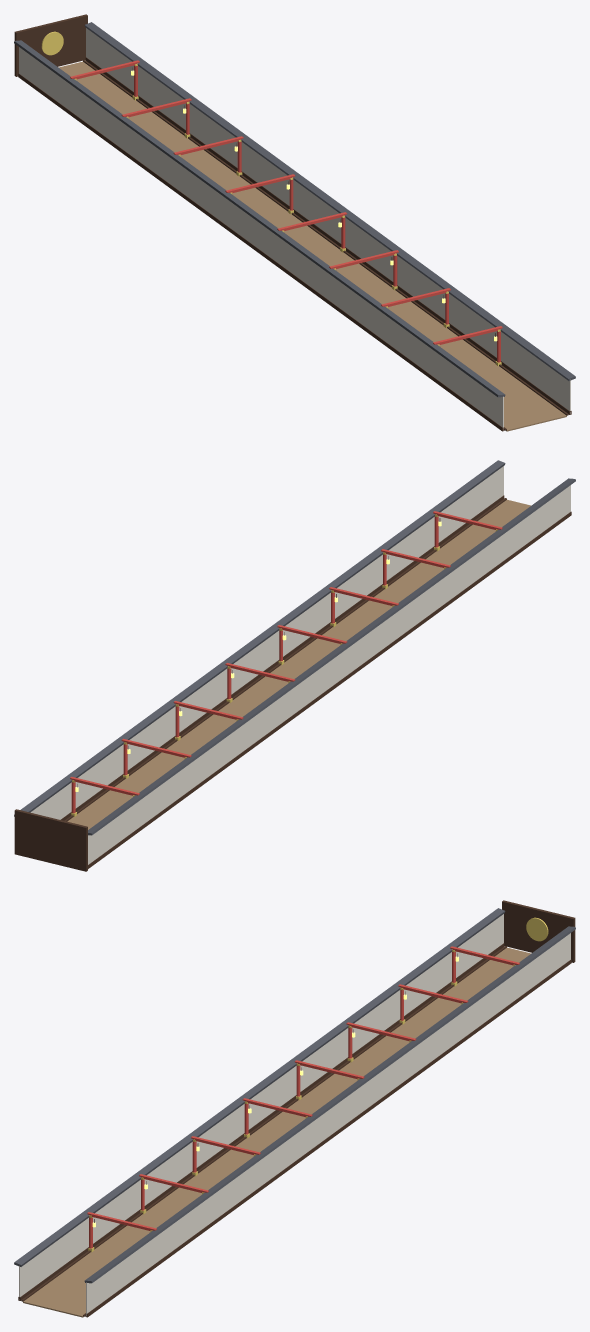
The model's file is escenario_dojo.glb.
3 views of the same model, one above another, from view 1: azimuth 30°, elevation 25°; view 2: azimuth 150°, elevation 25°; view 3: azimuth 330°, elevation 25° (orthographic).
Parts seen in each view (by area): view 1: Shoji_Wall_-5.6, Shoji_Wall_5.6, Dojo_Floor, Roof_Eave_5.6, Roof_Eave_-5.6, Cube, Dojo_EndArch, Cube.001, Dojo_FloorTrim_5.15; view 2: Shoji_Wall_-5.6, Shoji_Wall_5.6, Dojo_Floor, Roof_Eave_5.6, Roof_Eave_-5.6, Dojo_EndArch, Cube, Cube.001, Dojo_FloorTrim_5.15; view 3: Shoji_Wall_5.6, Shoji_Wall_-5.6, Dojo_Floor, Roof_Eave_-5.6, Roof_Eave_5.6, Cube.001, Dojo_EndArch, Cube, Dojo_FloorTrim_-5.15.
Part boxes in pixels (x1=…): Shoji_Wall_-5.6: x1=19, y1=47, x2=503, y2=431; Shoji_Wall_5.6: x1=86, y1=28, x2=570, y2=414; Dojo_Floor: x1=59, y1=61, x2=566, y2=431; Roof_Eave_5.6: x1=84, y1=22, x2=575, y2=380; Roof_Eave_-5.6: x1=14, y1=40, x2=505, y2=397; Cube: x1=18, y1=73, x2=504, y2=431; Dojo_EndArch: x1=14, y1=14, x2=87, y2=76; Cube.001: x1=85, y1=57, x2=571, y2=414; Dojo_FloorTrim_5.15: x1=83, y1=60, x2=568, y2=415; Shoji_Wall_-5.6: x1=88, y1=485, x2=570, y2=864; Shoji_Wall_5.6: x1=30, y1=466, x2=503, y2=819; Dojo_Floor: x1=67, y1=499, x2=530, y2=829; Roof_Eave_5.6: x1=14, y1=460, x2=505, y2=816; Roof_Eave_-5.6: x1=88, y1=478, x2=575, y2=835; Dojo_EndArch: x1=14, y1=809, x2=87, y2=871; Cube: x1=88, y1=511, x2=571, y2=868; Cube.001: x1=60, y1=495, x2=504, y2=820; Dojo_FloorTrim_5.15: x1=64, y1=498, x2=506, y2=821; Shoji_Wall_5.6: x1=86, y1=933, x2=570, y2=1317; Shoji_Wall_-5.6: x1=19, y1=914, x2=503, y2=1300; Dojo_Floor: x1=23, y1=947, x2=530, y2=1317; Roof_Eave_-5.6: x1=14, y1=908, x2=505, y2=1266; Roof_Eave_5.6: x1=84, y1=926, x2=575, y2=1283; Cube.001: x1=85, y1=959, x2=571, y2=1317; Dojo_EndArch: x1=502, y1=900, x2=575, y2=962; Cube: x1=18, y1=943, x2=504, y2=1300; Dojo_FloorTrim_-5.15: x1=21, y1=946, x2=506, y2=1301.
Size of the model in its own units: 13.04 by 7.2 by 141.
